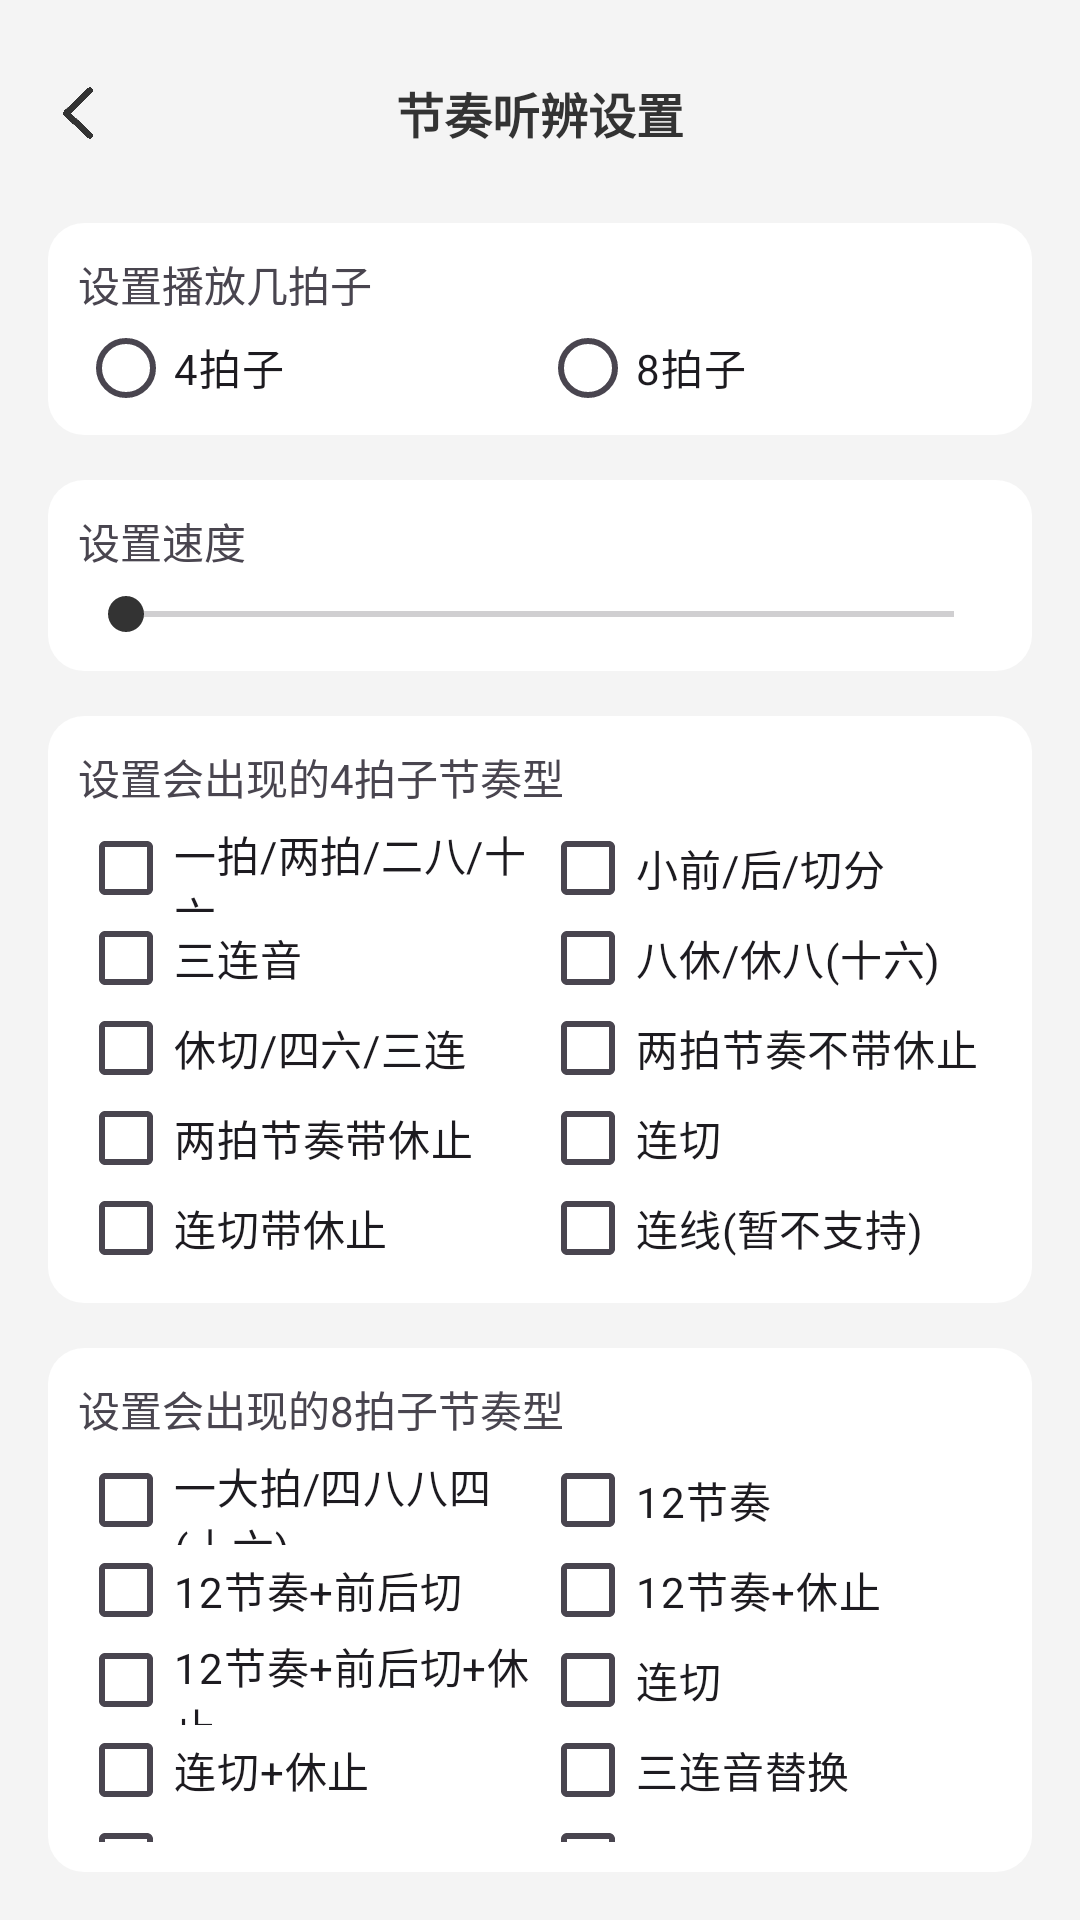

Screen size 1080w x 1920h. Icon name, then its center in pixels as point (x, y):
back: point (78, 113)
